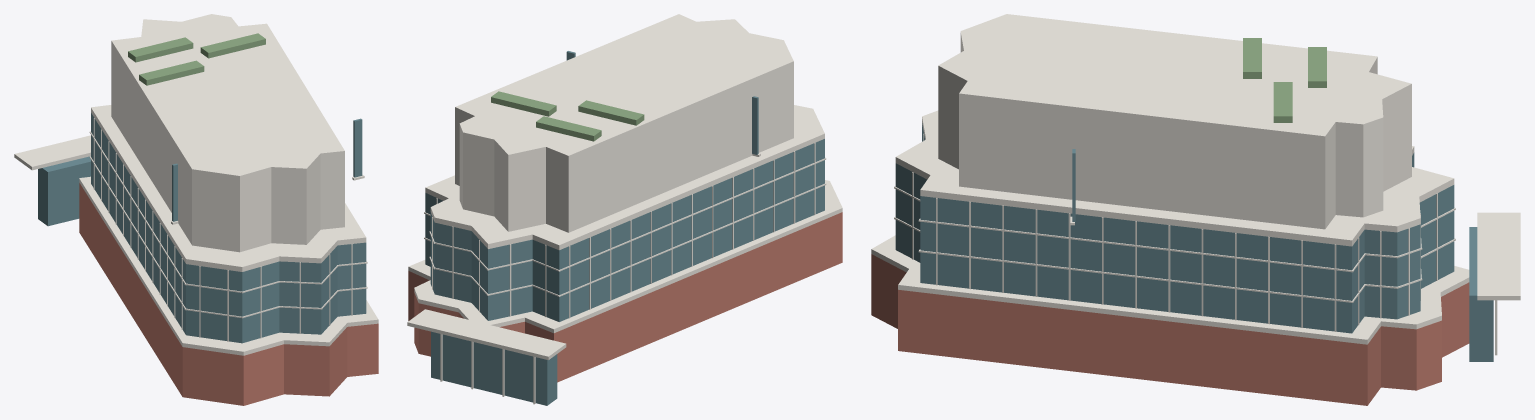
File: tang.glb
The picture shows the model from 3 angles, left to right: view 1: azimuth 30°, elevation 25°; view 2: azimuth 150°, elevation 25°; view 3: azimuth 270°, elevation 25°; orthographic projection. The views are drawn at different scales.
Visible parts, largest first — view 1: TPY_roof_slab, TPY_glass, TPY_upper, TPY_podium, TPY_band_1, TPY_band_0, TPY_atrium, TPY_canopy, TPY_planter_0, TPY_planter_1, TPY_planter_2, TPY_slit_4 (+3 smaller); view 2: TPY_glass, TPY_roof_slab, TPY_upper, TPY_podium, TPY_band_1, TPY_atrium, TPY_band_0, TPY_canopy, TPY_planter_0, TPY_planter_2, TPY_planter_1, TPY_transom_1_12 (+2 smaller); view 3: TPY_glass, TPY_upper, TPY_podium, TPY_roof_slab, TPY_band_1, TPY_band_0, TPY_canopy, TPY_atrium, TPY_transom_0_4, TPY_transom_1_4, TPY_planter_2, TPY_planter_0 (+1 smaller).
Part boxes in pixels (box(x1,y1,x2,y2)): TPY_roof_slab: box(111, 14, 344, 181); TPY_glass: box(91, 113, 366, 343); TPY_upper: box(111, 47, 344, 252); TPY_podium: box(79, 183, 378, 405); TPY_band_1: box(91, 105, 366, 271); TPY_band_0: box(79, 176, 378, 355); TPY_atrium: box(38, 156, 90, 226); TPY_canopy: box(14, 135, 90, 170); TPY_planter_0: box(139, 60, 204, 85); TPY_planter_1: box(128, 37, 193, 62); TPY_planter_2: box(200, 33, 265, 58); TPY_slit_4: box(353, 118, 362, 177); TPY_glass: box(425, 139, 824, 321); TPY_roof_slab: box(455, 14, 793, 161); TPY_upper: box(455, 67, 793, 232); TPY_podium: box(408, 212, 842, 382); TPY_band_1: box(425, 105, 824, 250); TPY_atrium: box(431, 331, 557, 405); TPY_band_0: box(408, 180, 842, 333); TPY_canopy: box(407, 309, 566, 360); TPY_planter_0: box(578, 100, 644, 125); TPY_planter_2: box(491, 91, 556, 116); TPY_planter_1: box(536, 116, 601, 141); TPY_transom_1_12: box(557, 158, 826, 271); TPY_glass: box(895, 123, 1454, 333); TPY_upper: box(938, 40, 1411, 229); TPY_podium: box(871, 254, 1469, 405); TPY_roof_slab: box(938, 14, 1411, 143); TPY_band_1: box(895, 110, 1454, 246); TPY_band_0: box(871, 235, 1469, 344); TPY_canopy: box(1477, 212, 1520, 300); TPY_atrium: box(1469, 227, 1493, 361); TPY_transom_0_4: box(918, 250, 1353, 302); TPY_transom_1_4: box(918, 220, 1353, 271); TPY_planter_2: box(1273, 82, 1292, 122); TPY_planter_0: box(1243, 38, 1261, 78).
Size of the model in its own units: 27.45 by 21.15 by 48.02.
